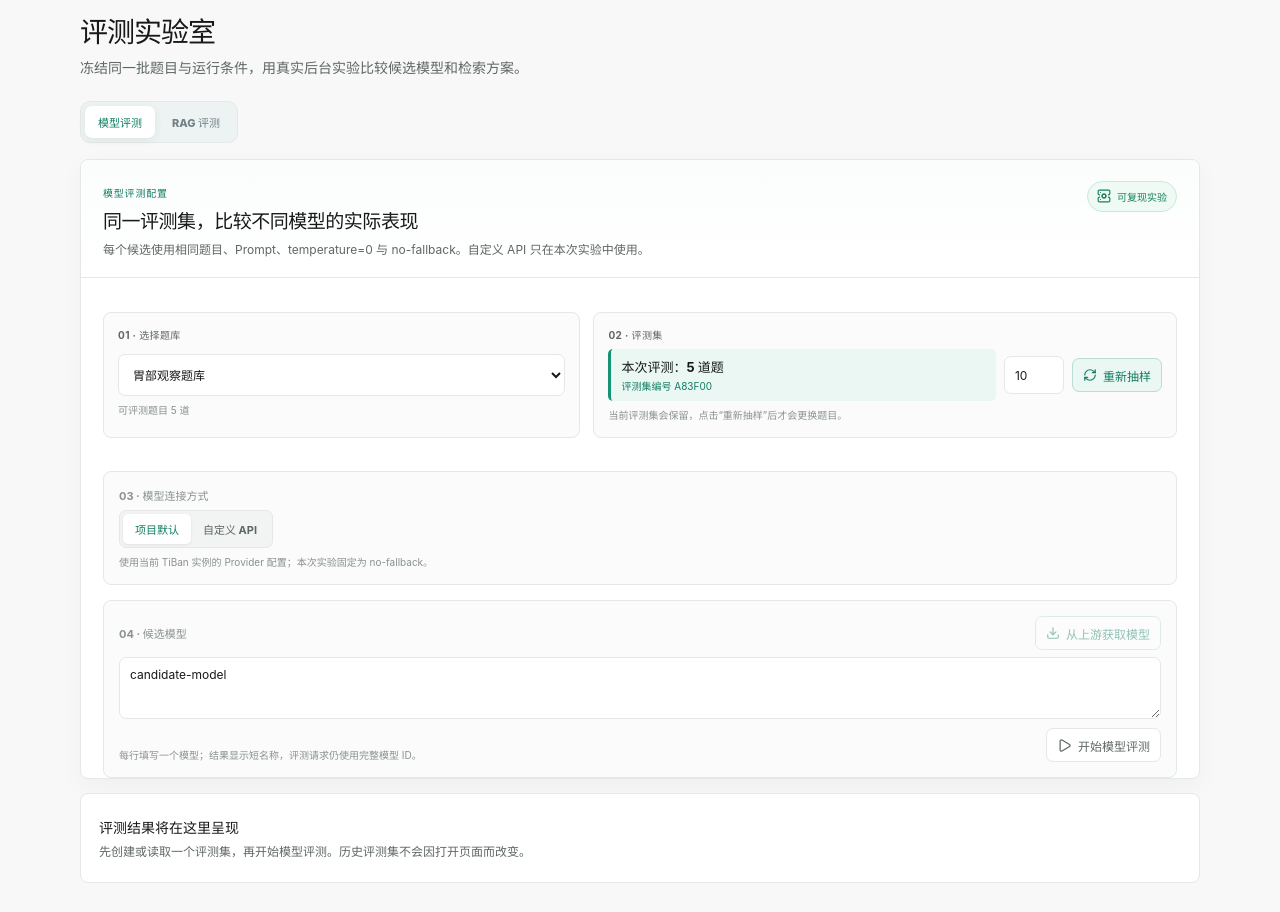
it: Stage 1 page contracts › keeps an existing candidate draft when upstream model discovery fails
Click the button "自定义 API" at [230, 529], box [191,514,269,544]
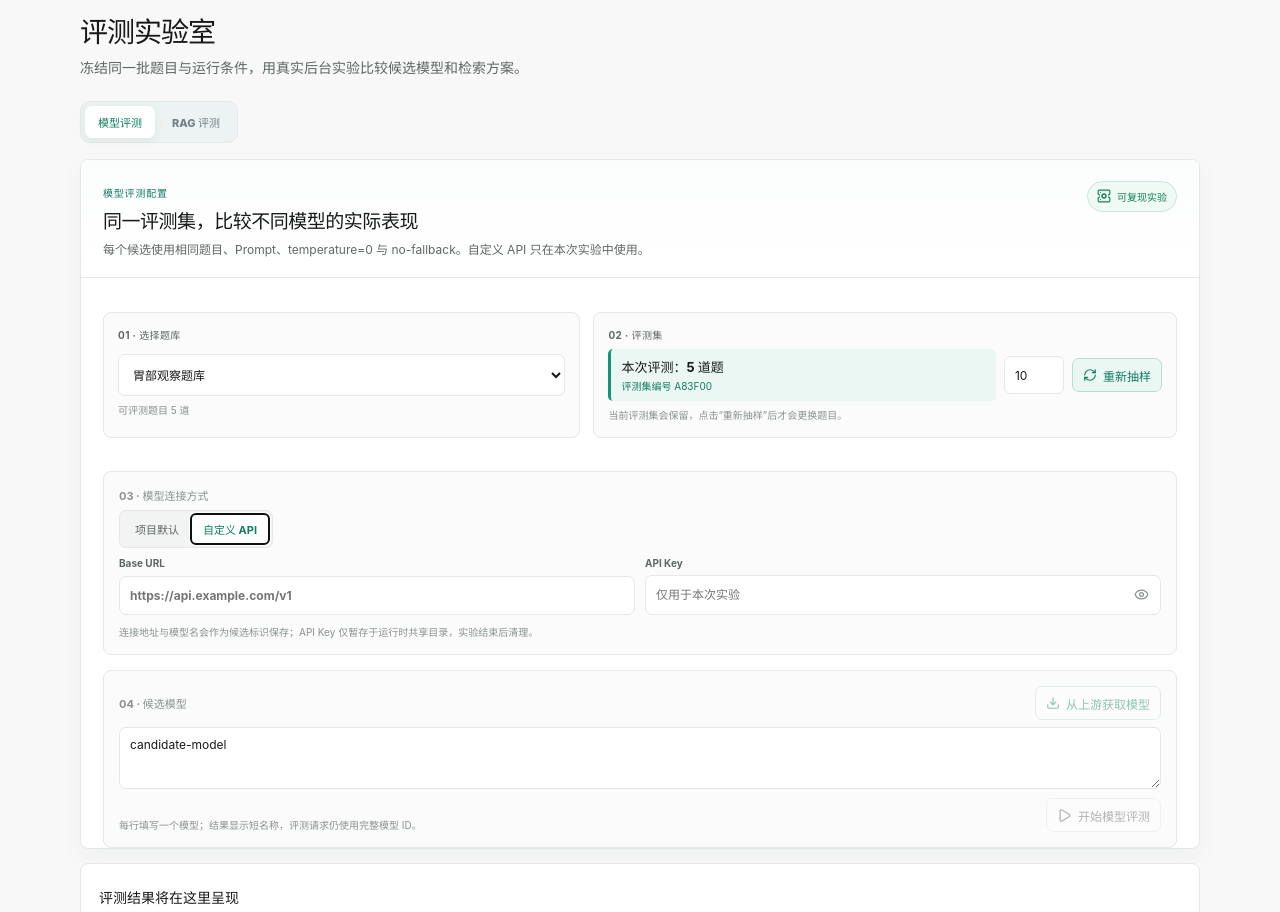
Type "https://provider.example/v1" into the field named "评测 Base URL" at [377, 595], box [119,576,635,615]
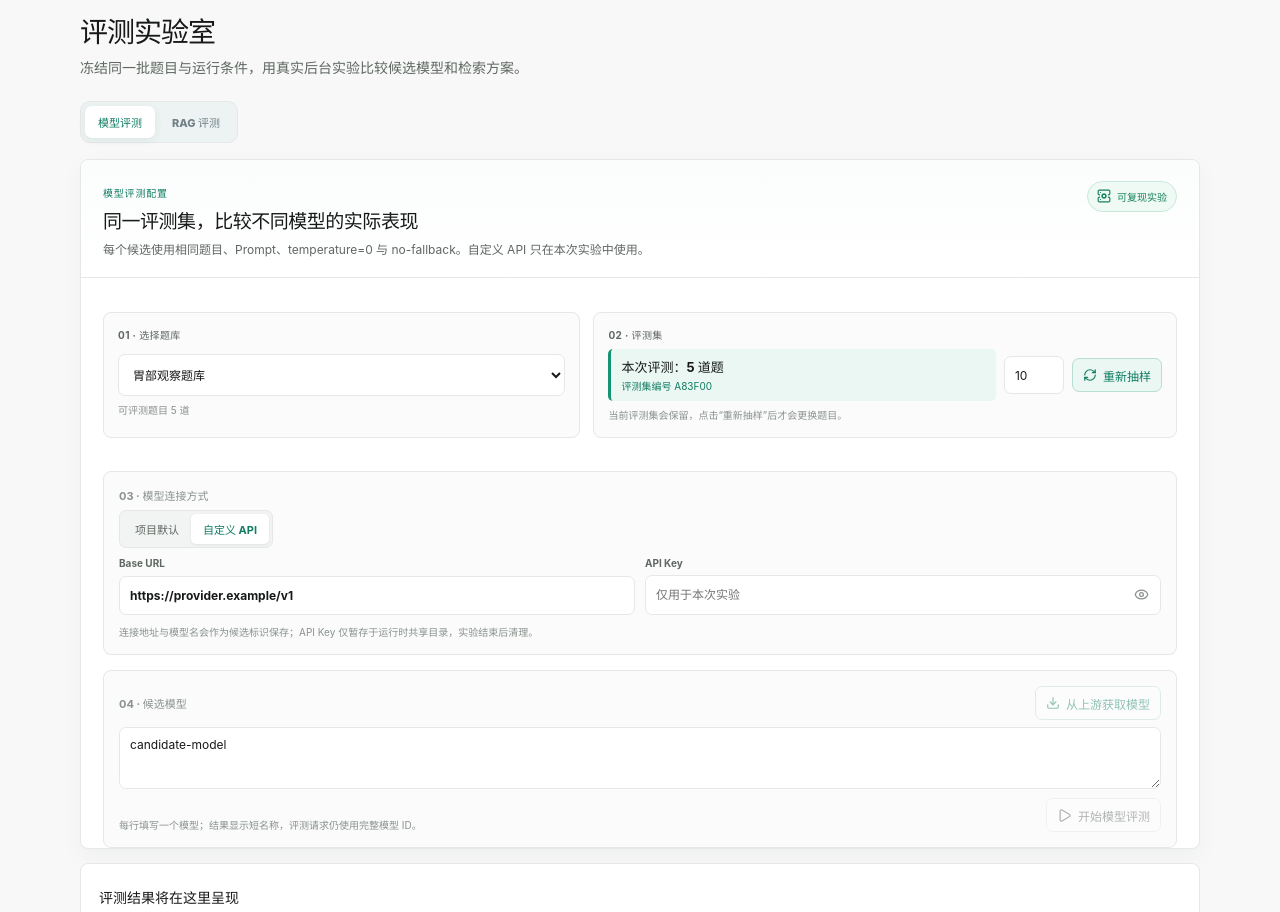
Type "runtime-only-key" into the password field named "评测 API Key" at [884, 595], box [646,576,1122,614]
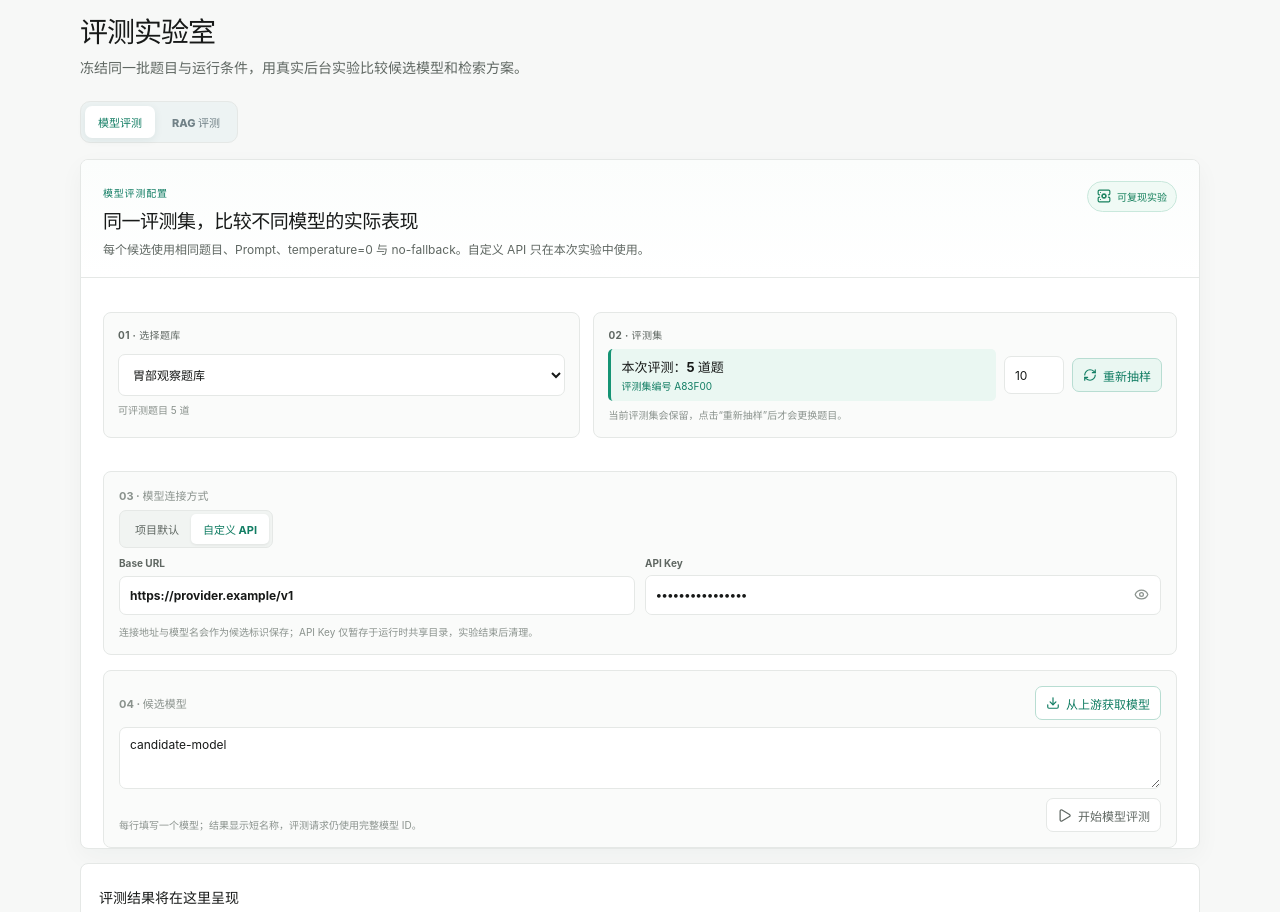
Replace the text in the text box named "候选模型" with "keep-this-model" at [640, 758], box [119,727,1161,789]
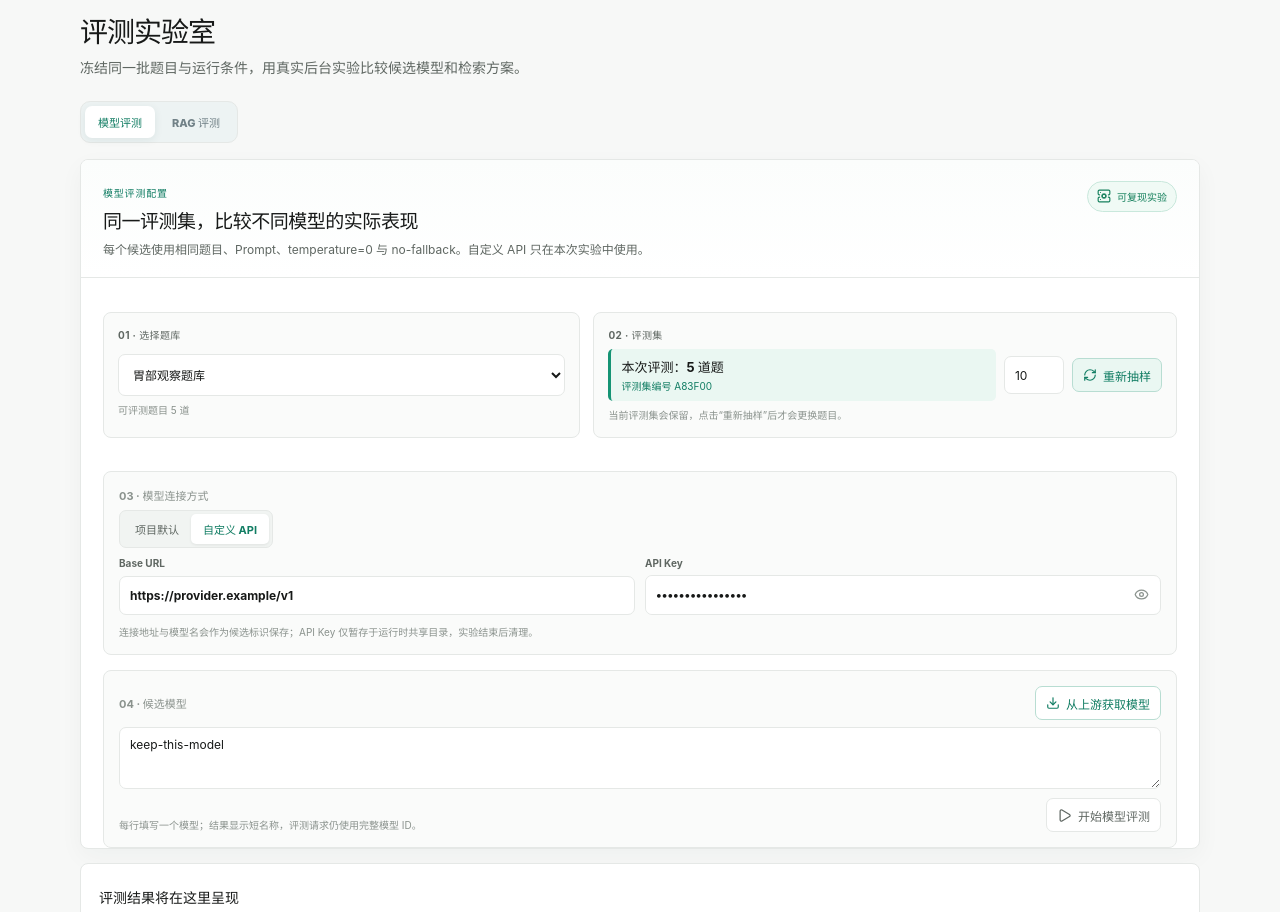
Click the button "从上游获取模型" at [1098, 703], box [1035,686,1161,720]
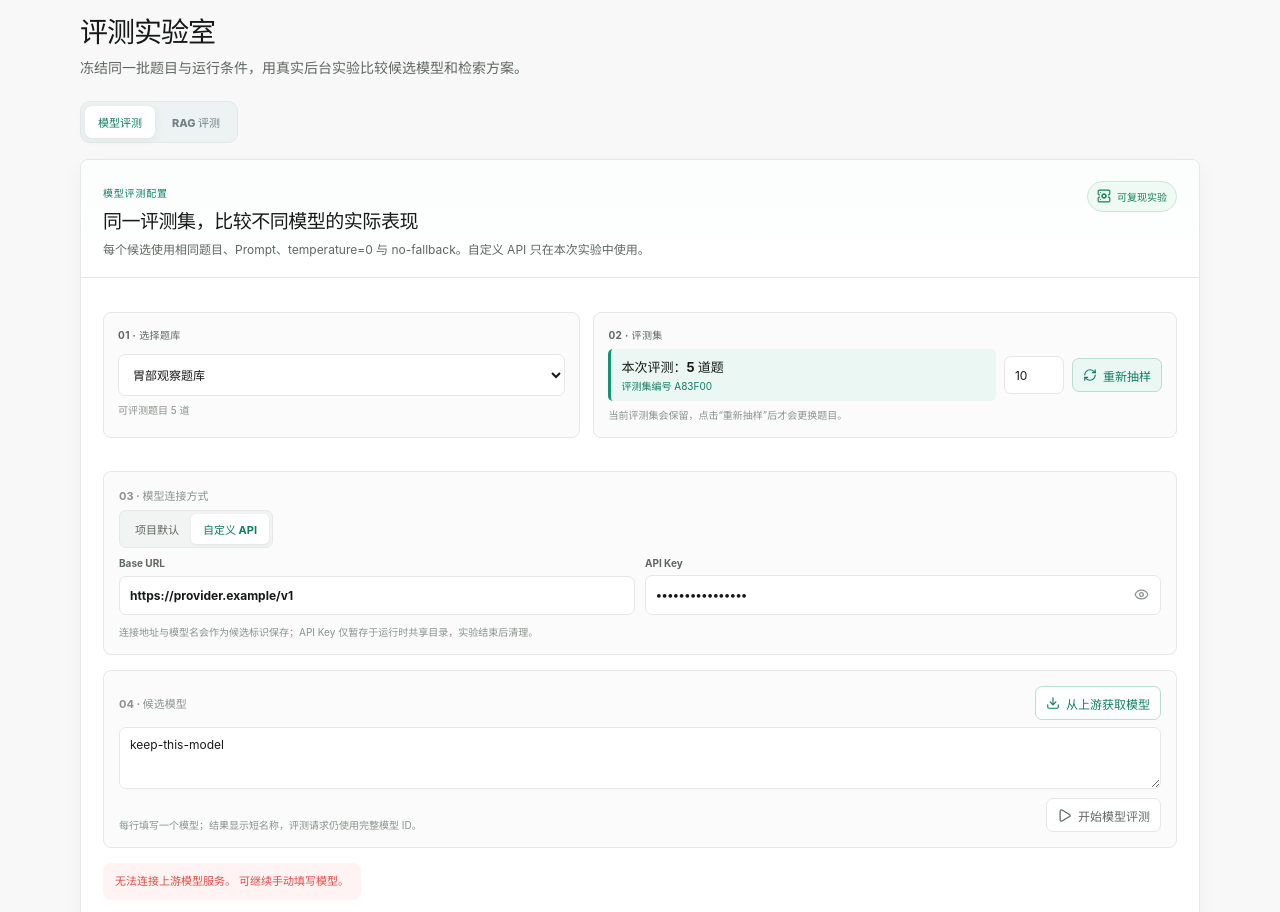
expect the message shows "无法连接上游模型服务。": met, box [115,874,236,888]
